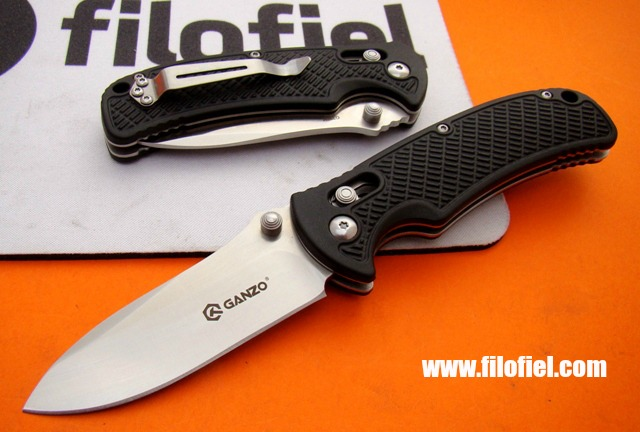knife: (14, 190, 344, 421)
